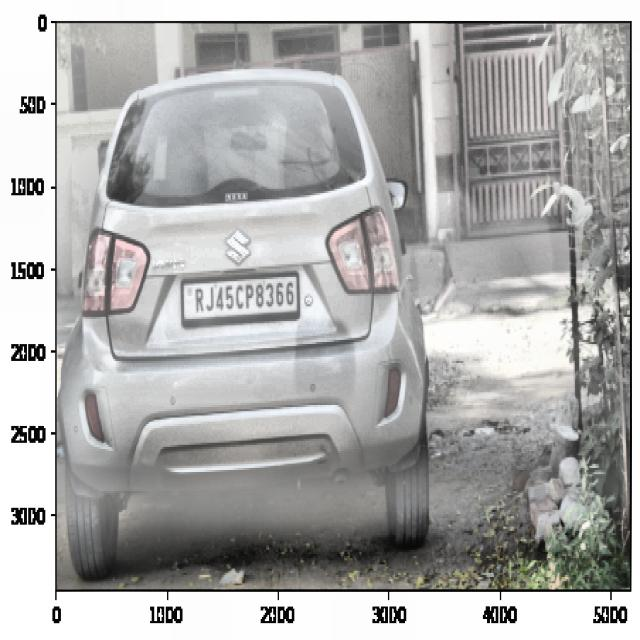license_plate: (190, 276, 299, 318)
